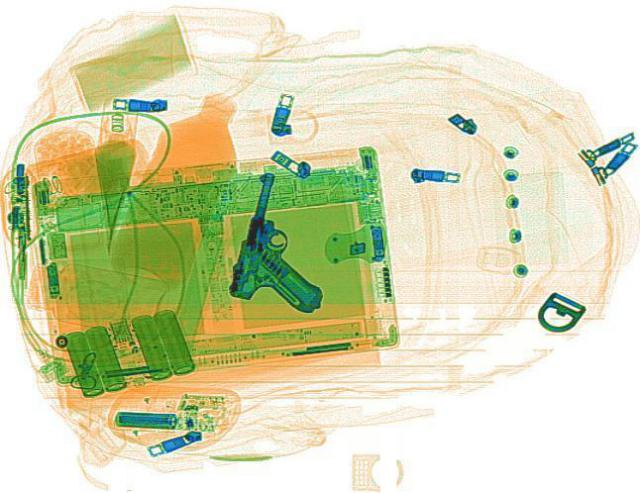Gun: (220, 171, 358, 312)
